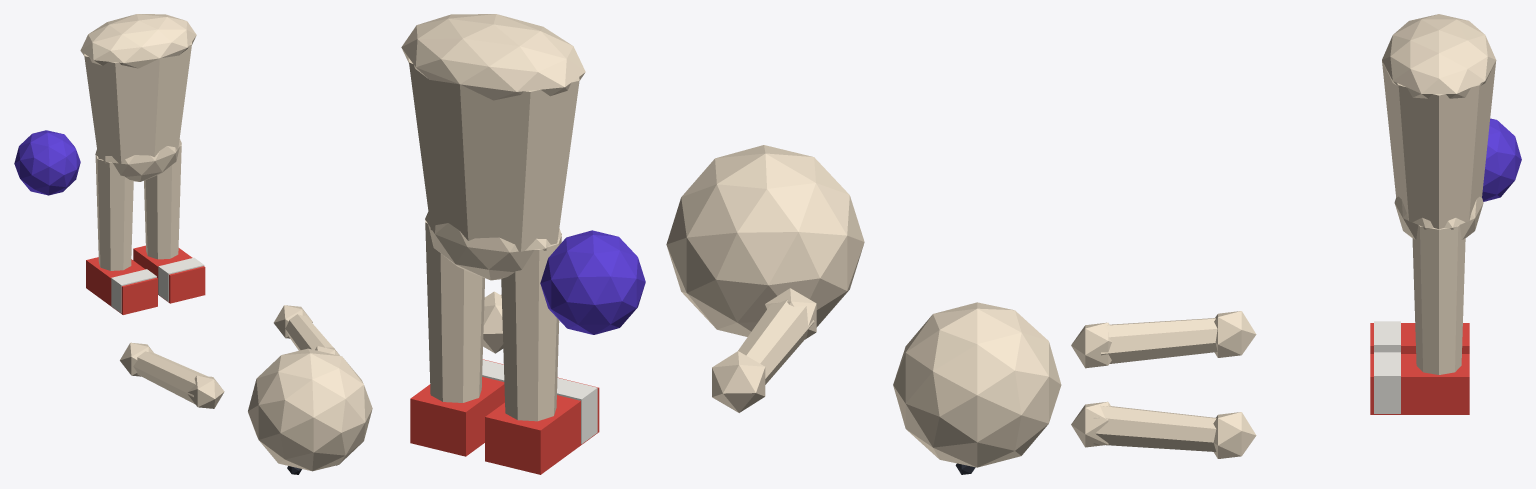
File: athlete_bowling.fbx
3 renders of one model, left to right at view 1: azimuth 30°, elevation 25°; view 2: azimuth 150°, elevation 25°; view 3: azimuth 270°, elevation 25°, orthographic. The views are drawn at different scales.
Visible parts, largest first — view 1: Torso, Head, LegR, LegL, Item, ArmR, ArmL; view 2: Torso, Head, LegR, LegL, Item, ArmR, ArmL; view 3: Head, Torso, LegL, ArmL, ArmR, Item, LegR.
Part boxes in pixels (x1,y1,x2,y2): Torso: (80, 14, 196, 181); Head: (248, 348, 372, 474); LegR: (86, 152, 157, 314); LegL: (133, 144, 205, 303); Item: (14, 130, 80, 195); ArmR: (120, 342, 224, 408); ArmL: (273, 305, 339, 355); Torso: (401, 14, 585, 280); Head: (666, 145, 864, 336); LegR: (485, 233, 599, 474); LegL: (410, 220, 504, 456); Item: (540, 230, 645, 334); ArmR: (712, 288, 816, 412); ArmL: (483, 291, 503, 353); Head: (893, 302, 1061, 474); Torso: (1382, 14, 1496, 239); LegL: (1370, 225, 1469, 414); ArmL: (1071, 401, 1256, 458); ArmR: (1071, 311, 1256, 368); Item: (1482, 118, 1521, 201); LegR: (1370, 321, 1469, 353).
Bounding box in the file's own units: 1.12 × 1.75 × 2.32.
